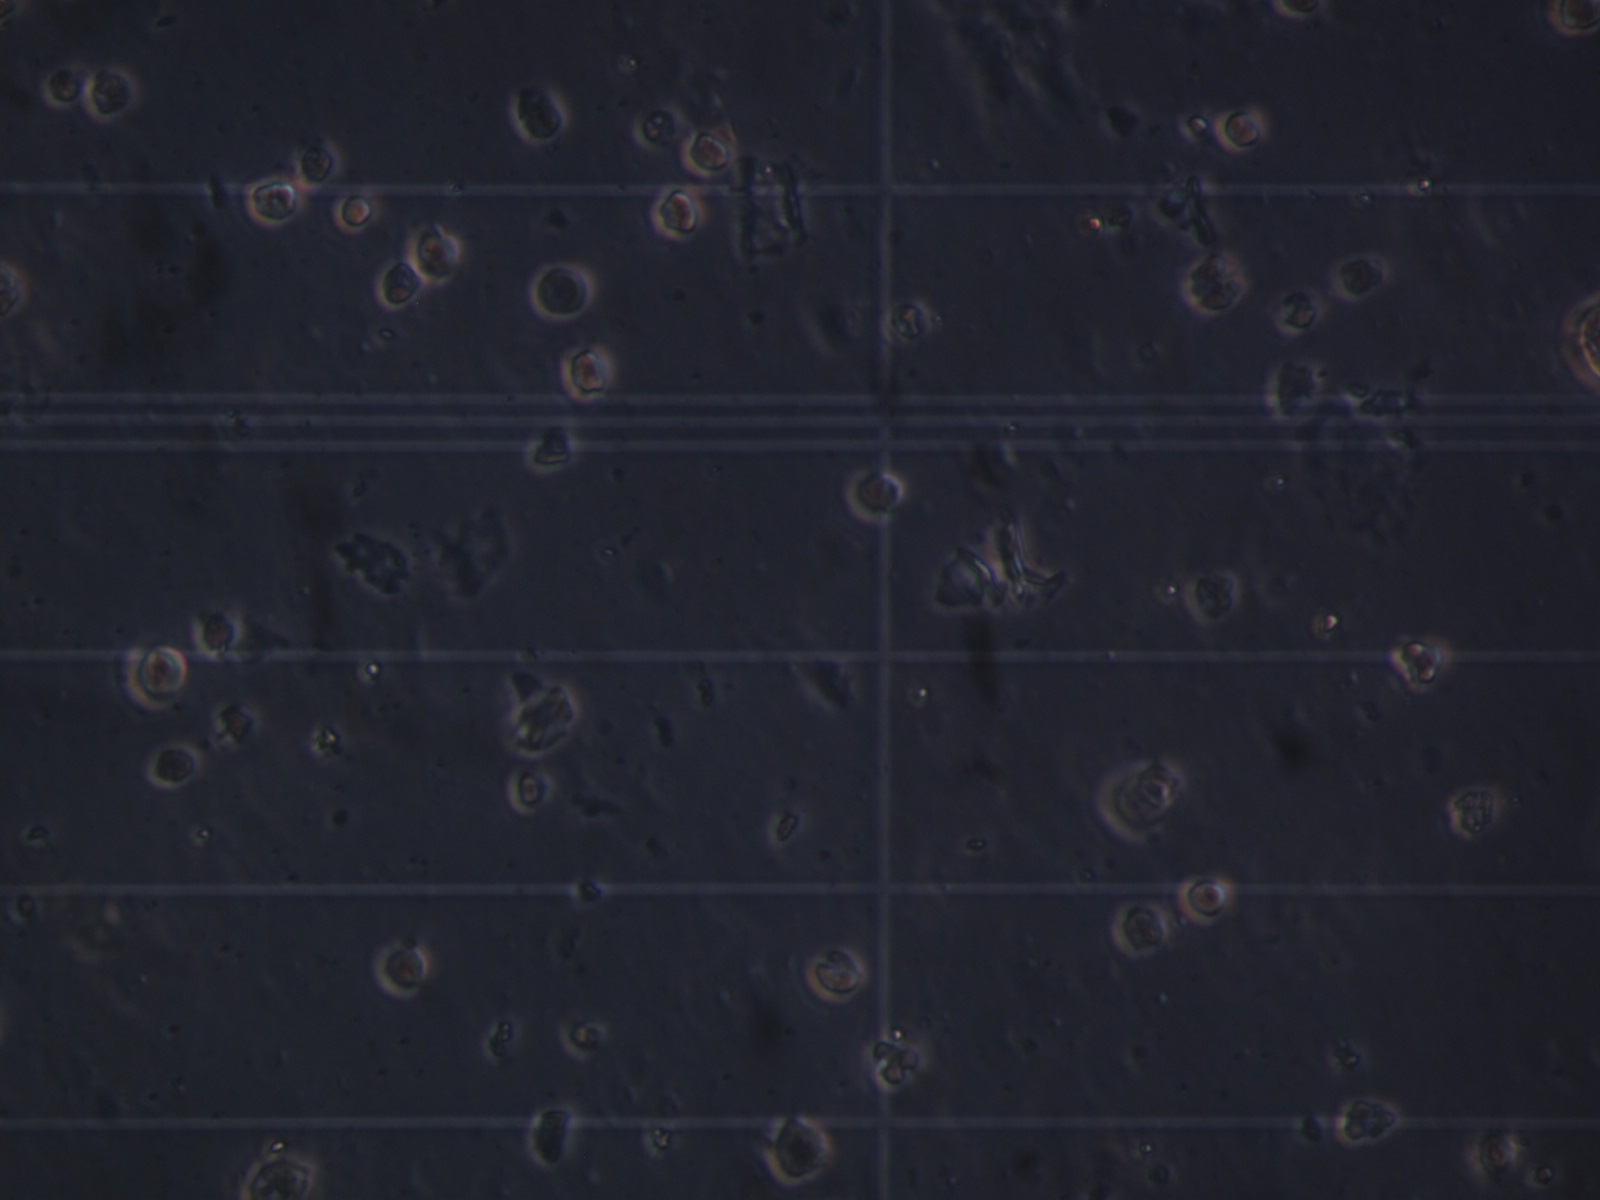hemo: (504, 682, 580, 756), (767, 1113, 831, 1185), (1102, 776, 1170, 842), (123, 644, 188, 713), (1183, 250, 1246, 316), (530, 262, 596, 321), (509, 84, 569, 147), (404, 223, 462, 287), (843, 469, 906, 527), (559, 342, 615, 406), (1111, 901, 1170, 961), (373, 938, 428, 1001), (82, 66, 141, 124), (1184, 568, 1241, 629), (1388, 632, 1444, 693), (808, 945, 866, 1003), (650, 183, 706, 242), (864, 1032, 922, 1088), (527, 1105, 580, 1166), (1338, 1095, 1401, 1143), (1177, 874, 1233, 926), (527, 413, 578, 471), (556, 1011, 609, 1066), (1332, 251, 1388, 303), (248, 176, 306, 227), (503, 763, 556, 816), (1448, 787, 1500, 839), (377, 257, 427, 311), (241, 1155, 316, 1190), (146, 742, 202, 790), (294, 141, 344, 192), (1214, 108, 1266, 155), (682, 130, 732, 176), (1275, 285, 1322, 335), (191, 609, 239, 657), (884, 297, 934, 343), (334, 189, 378, 234), (44, 64, 84, 108), (1272, 1, 1325, 19)
